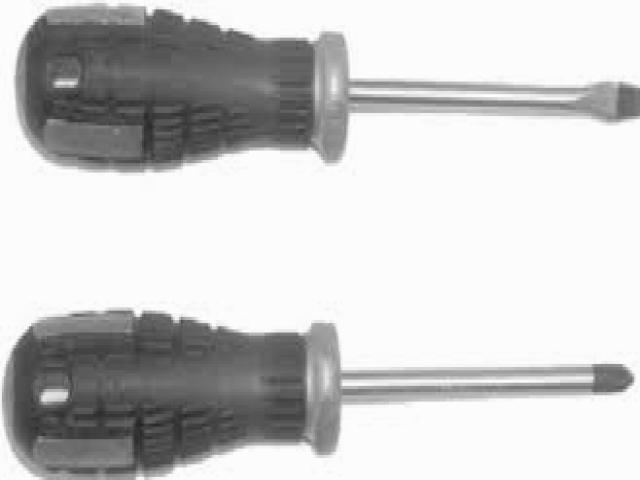Screwdriver: (5, 310, 634, 473), (18, 6, 640, 168)
